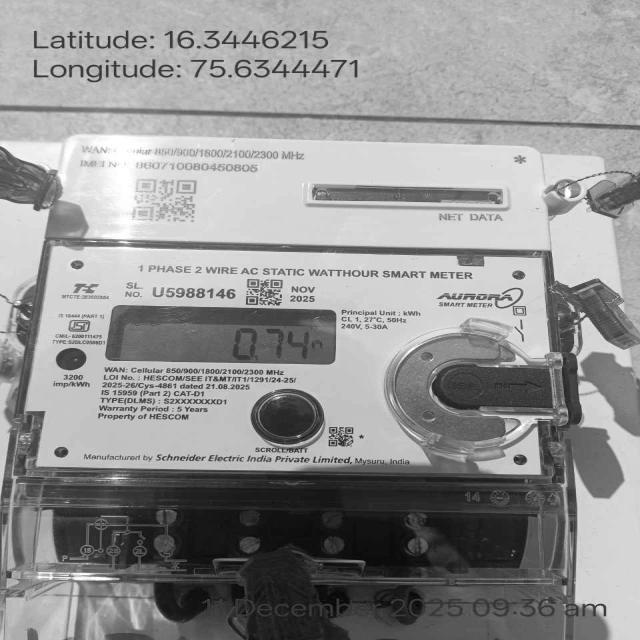meter: (26, 137, 558, 476)
